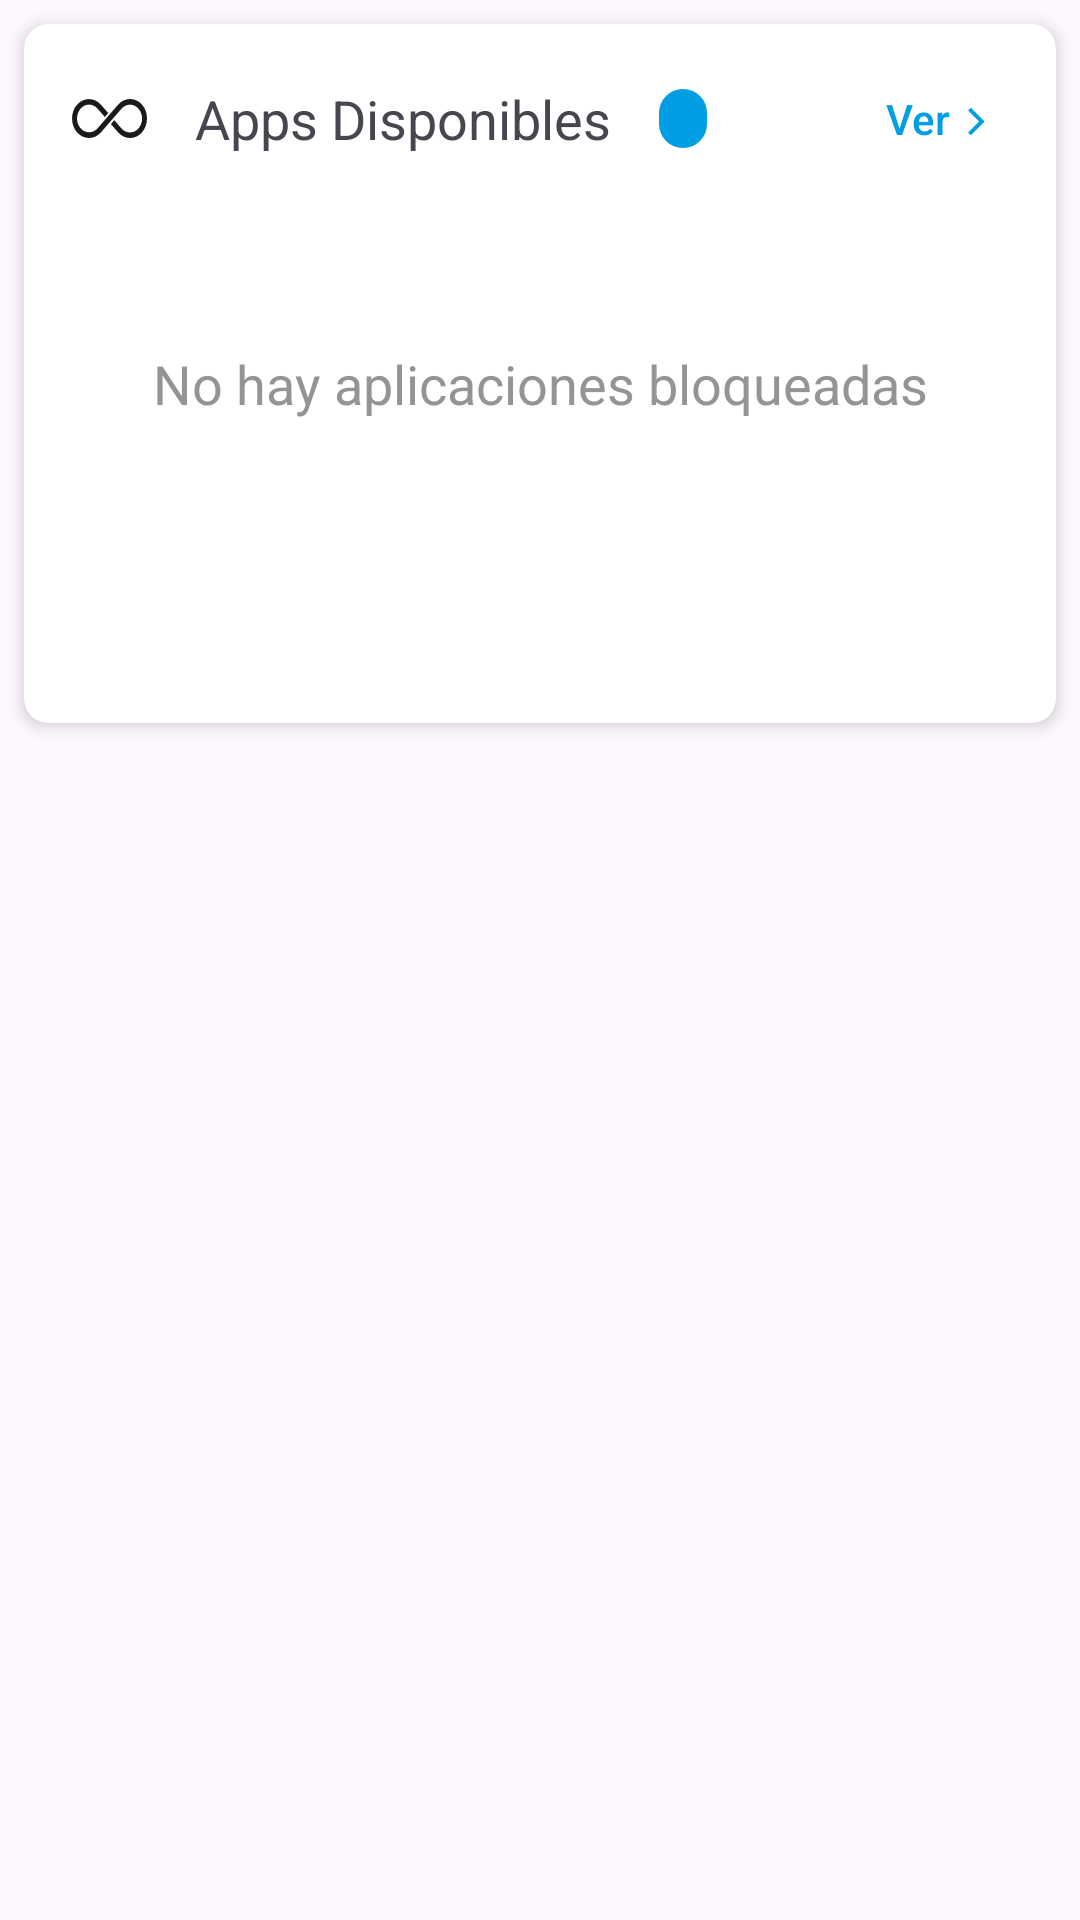

Named icons in this screenshot (1080*1920) and their centers, (x=x, y=y):
vecteezy infinity: (x=109, y=118)
